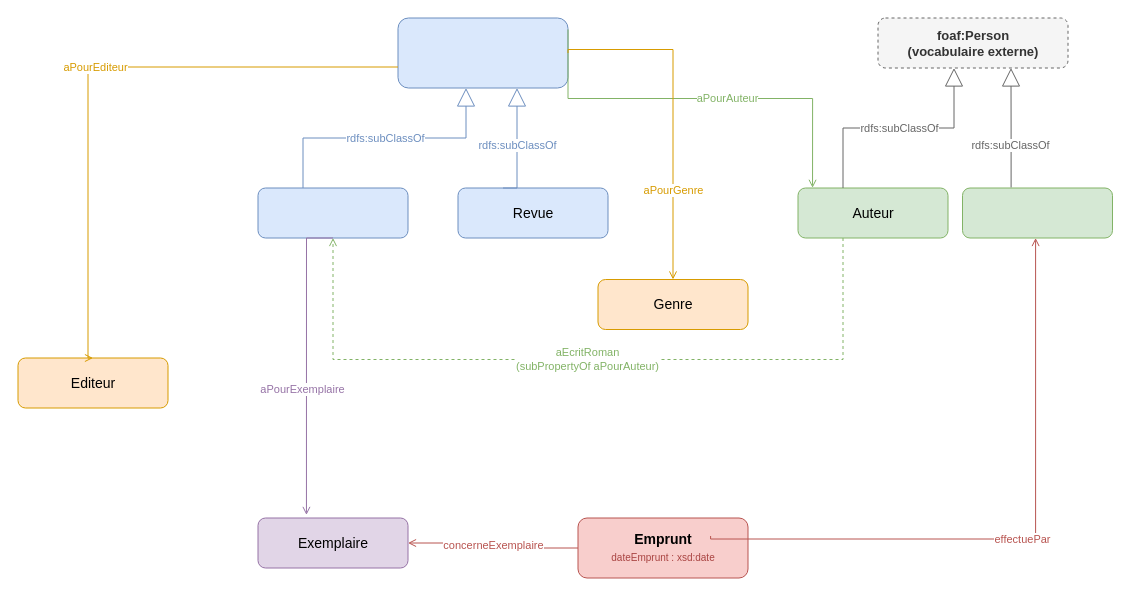
This 1130x595 diagram has some shape labels left out. Each missing label, with the box of its shape:
Document titre : xsd:string anneePublication : xsd:gYear: (397, 17, 568, 88)
Livre: (257, 187, 408, 238)
Membre: (962, 187, 1112, 238)
